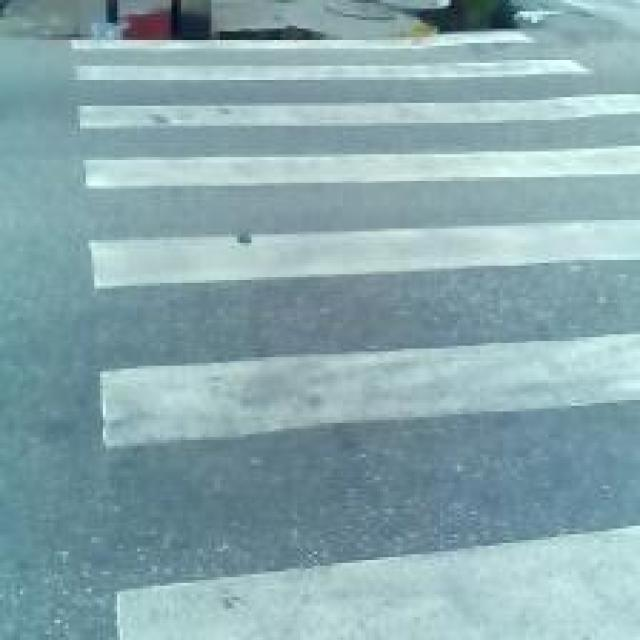walk-crossing: (78, 59, 633, 607)
